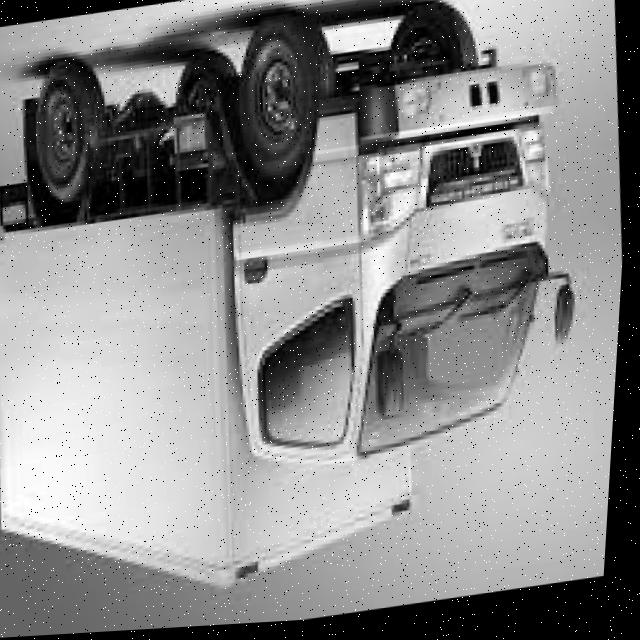truck: (185, 1, 625, 516)
